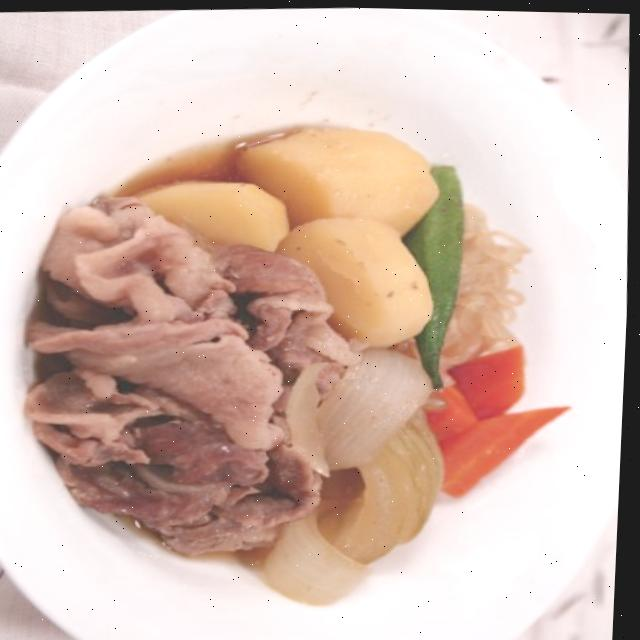牛肉菜式: (0, 96, 588, 619)
